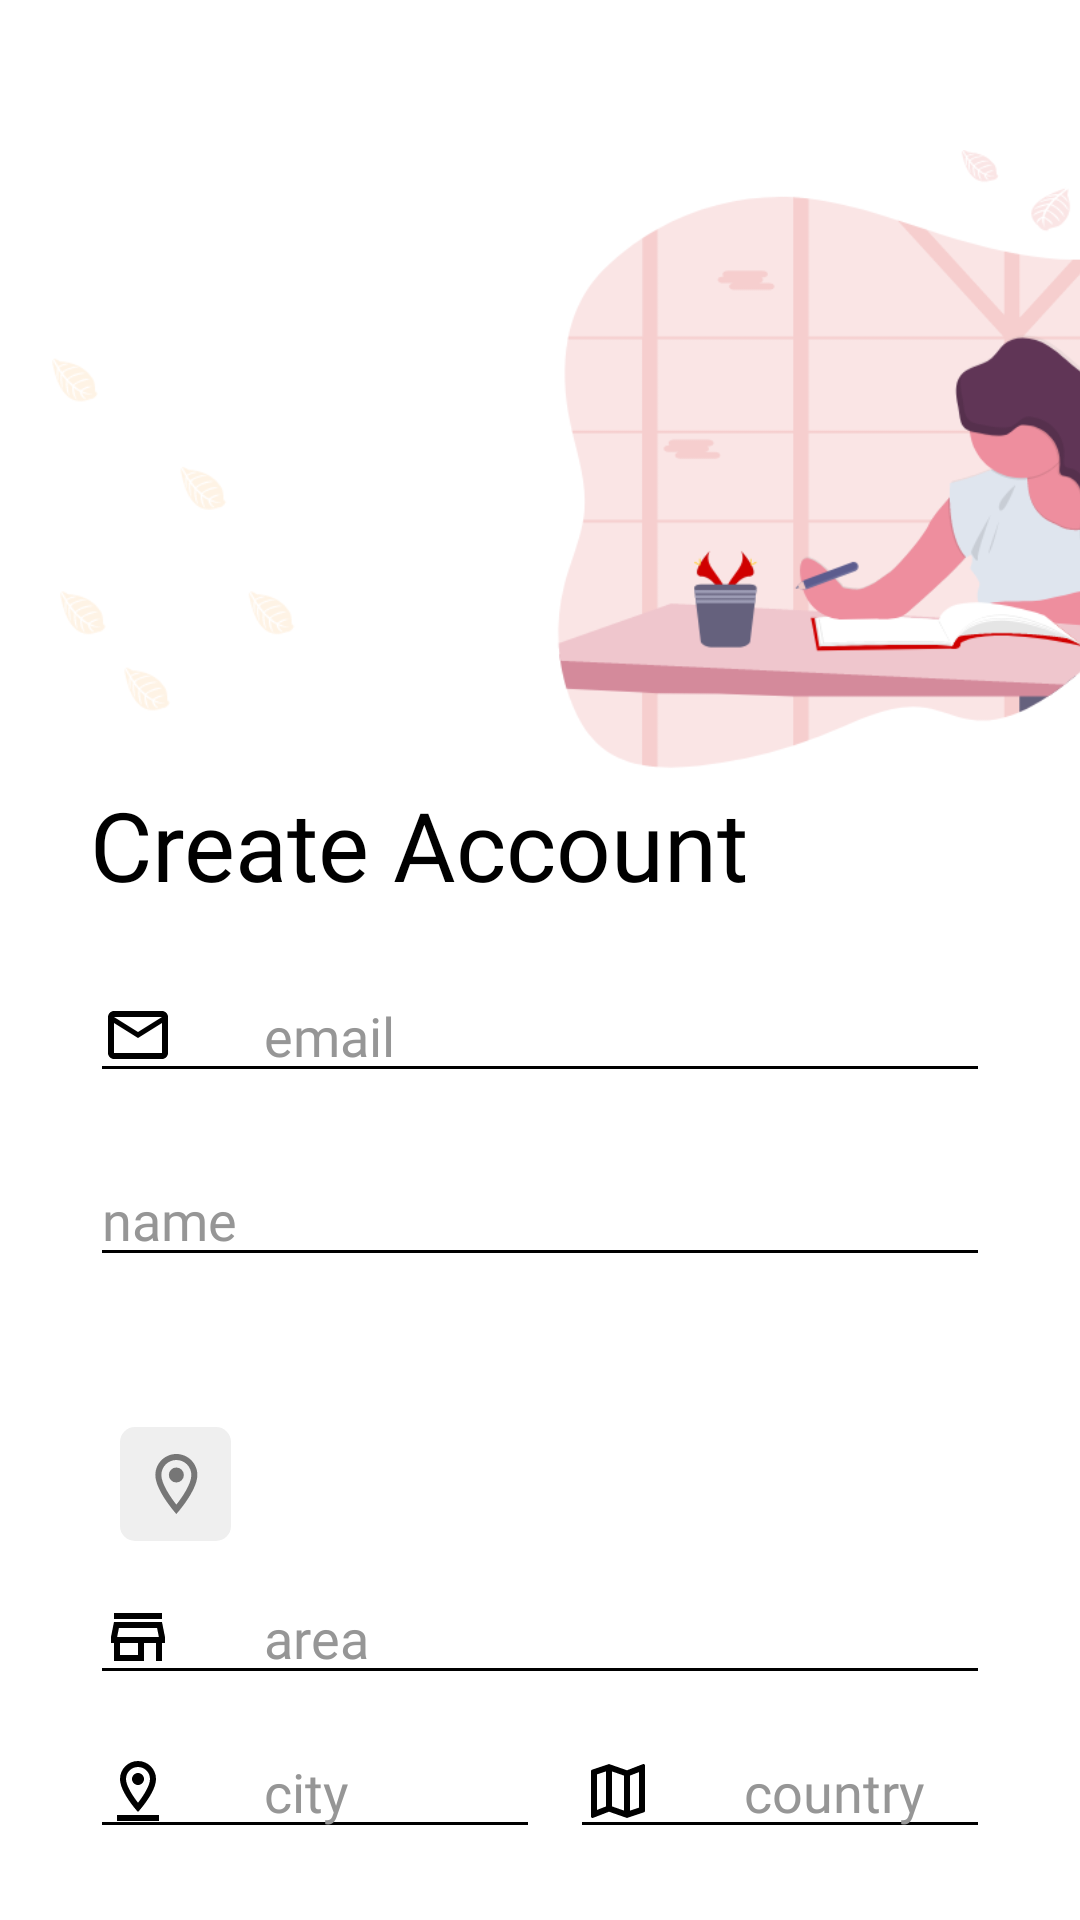

Where icons sit on this 1080 x 1920 app screen, as [x1=x1, y1=y1, x2=x2, y2=y2]:
register address: [x1=120, y1=1427, x2=231, y2=1541]
